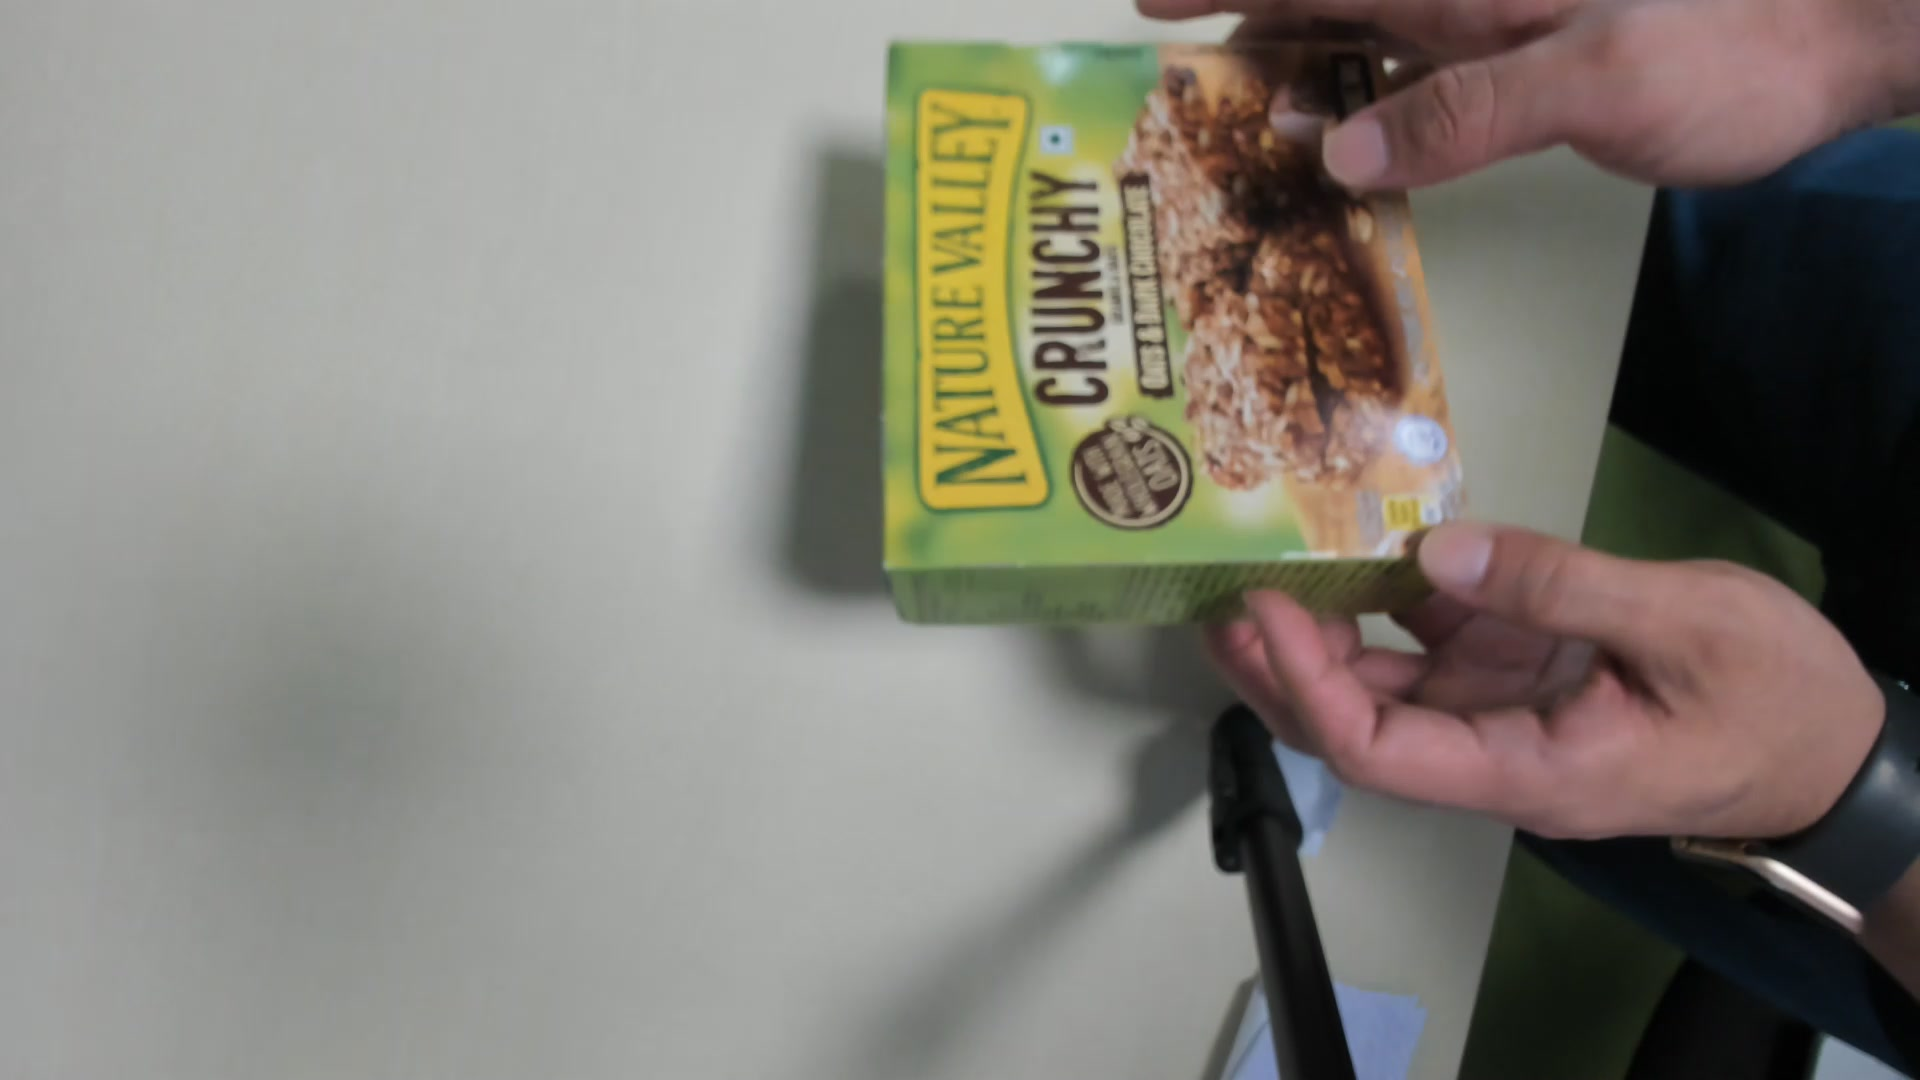SweetsChocolatesOthers_200-299g_Halal_Nonhealthy: (880, 44, 1460, 612)
